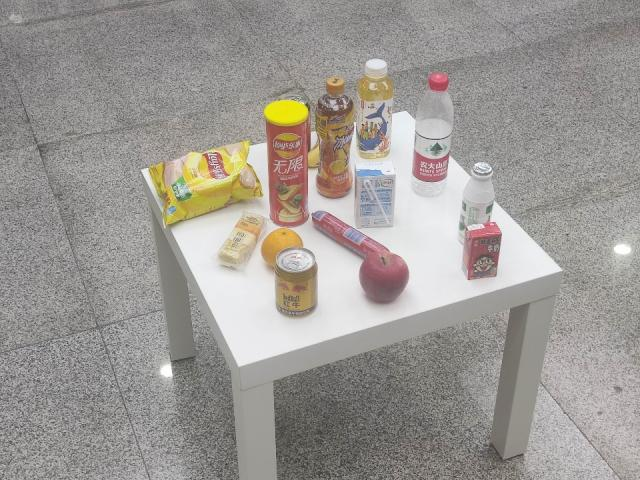Canned_drinks: (274, 246, 319, 319)
bottle: (412, 73, 455, 200), (458, 163, 496, 232)
cylinder: (257, 99, 315, 225)
drink_box: (348, 158, 402, 231), (453, 220, 507, 283)
